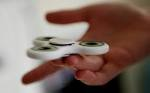fidget_spinner: (23, 19, 112, 64)
